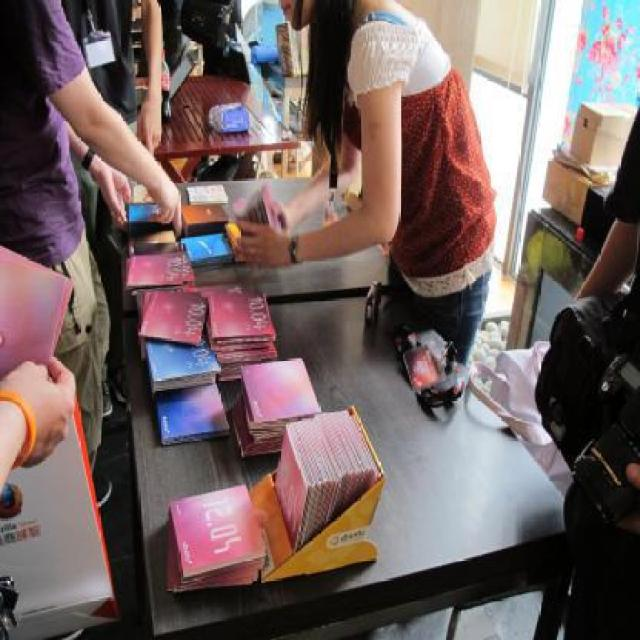Person: (0, 0, 182, 512), (302, 0, 510, 431), (0, 354, 77, 494)
